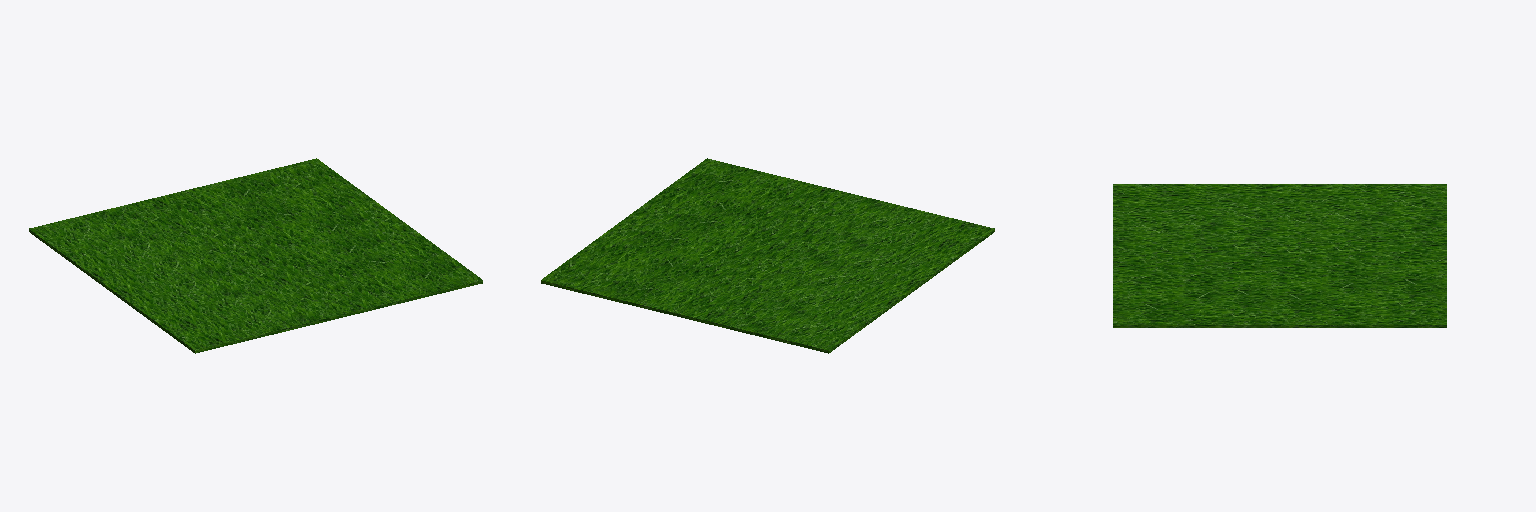
The picture shows the model from 3 angles: view 1: azimuth 30°, elevation 25°; view 2: azimuth 150°, elevation 25°; view 3: azimuth 270°, elevation 25°; orthographic projection.
Visible parts, largest first — view 1: trawa; view 2: trawa; view 3: trawa.
Part boxes in pixels (x1,y1,x2,y2): trawa: (29, 158, 482, 353); trawa: (541, 158, 994, 353); trawa: (1113, 184, 1446, 327).
Bounding box in the file's own units: 300 × 3 × 300.
Materials: 1 (1 with a texture image).